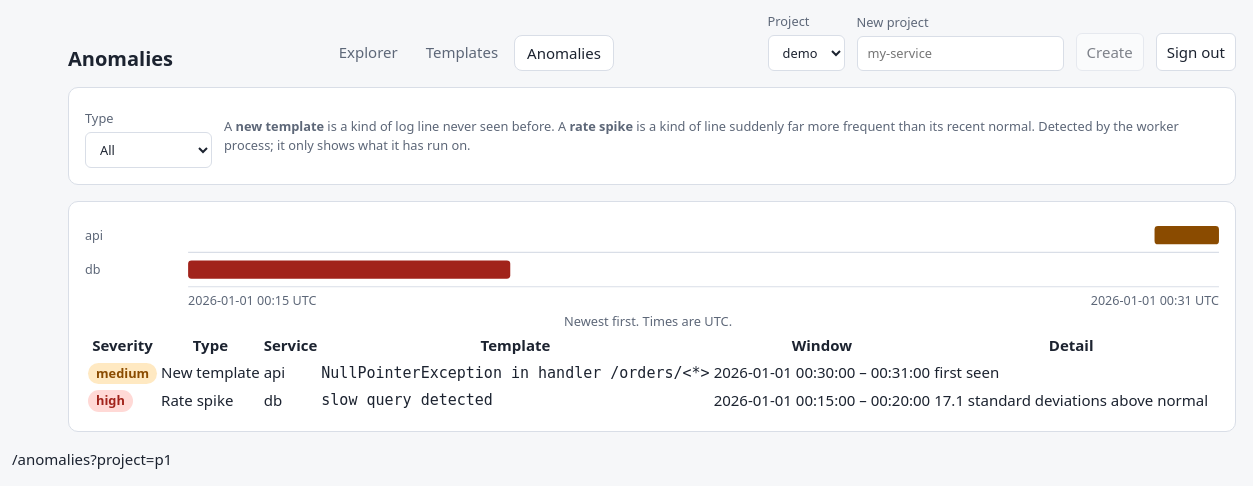
anomalies page › filters by type through the URL
Expected: the table is shown, [85,312,1211,415]
Select "Rate spike" in the dropdown labelled "Type": [148, 150] box [85,132,212,168]
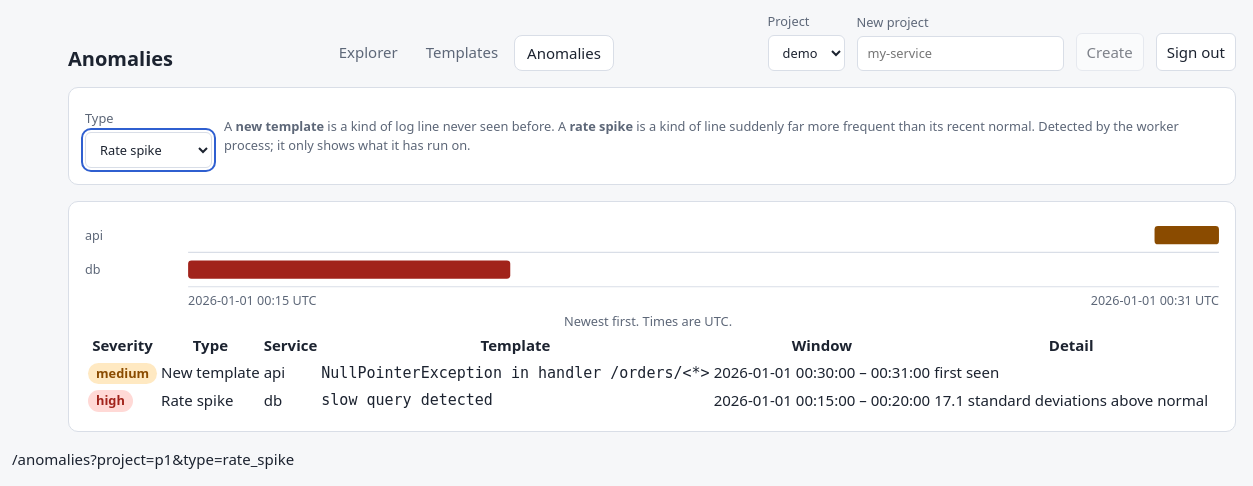
Expected: the text with test id "location" shows "type=rate_spike", [12,449,294,469]
